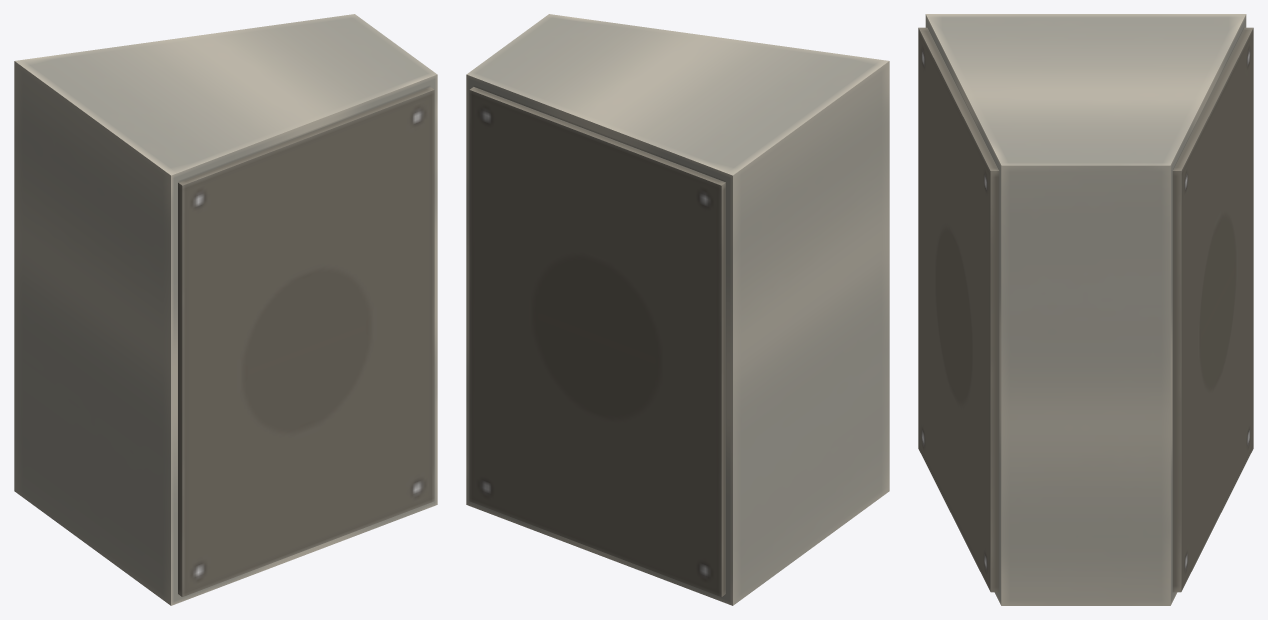
The model's file is SHW_Speaker_01_01.fbx.
3 renders of one model, left to right at view 1: azimuth 30°, elevation 25°; view 2: azimuth 150°, elevation 25°; view 3: azimuth 270°, elevation 25°, orthographic. The views are drawn at different scales.
Parts seen in each view (by area): view 1: shw_speaker_01_01; view 2: shw_speaker_01_01; view 3: shw_speaker_01_01.
Part boxes in pixels (x1,y1,x2,y2): shw_speaker_01_01: (14, 14, 437, 605); shw_speaker_01_01: (466, 14, 889, 605); shw_speaker_01_01: (918, 14, 1253, 605).
Size of the model in its own units: 21.4 by 29 by 20.
